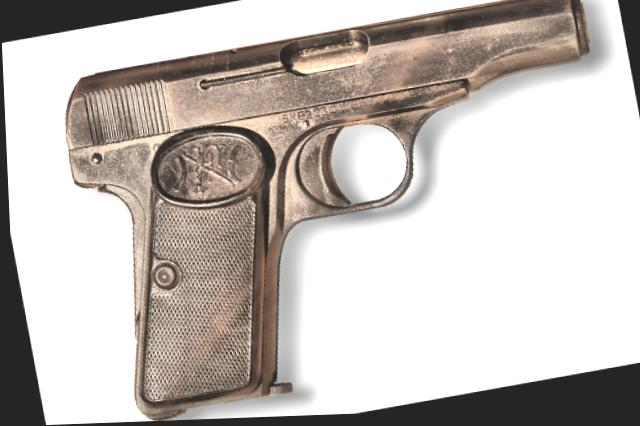pistol: (44, 0, 626, 425)
